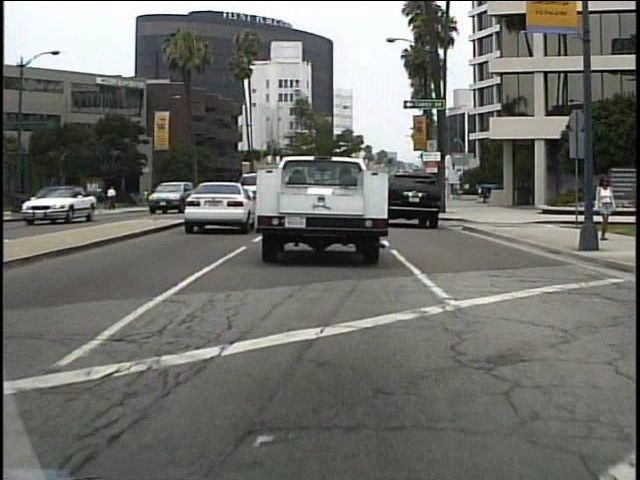person: (592, 172, 617, 246), (100, 187, 114, 218), (109, 185, 120, 213), (143, 186, 153, 209)
